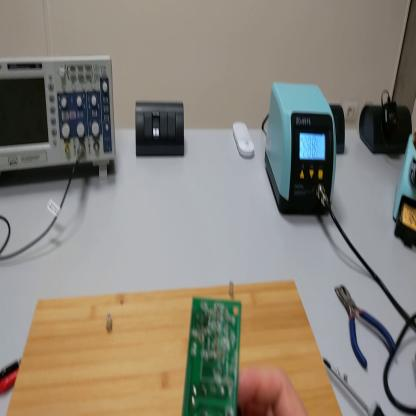hand: (231, 369, 306, 415)
high voltage board: (180, 293, 249, 416)
oscilloscope: (2, 53, 118, 189)
pliers: (336, 282, 398, 372)
screwdriver-: (324, 357, 387, 416)
socket: (359, 94, 415, 158), (331, 106, 346, 157)
welder base: (393, 127, 416, 257)
welder station: (267, 79, 340, 221)
working area: (7, 280, 344, 416)
